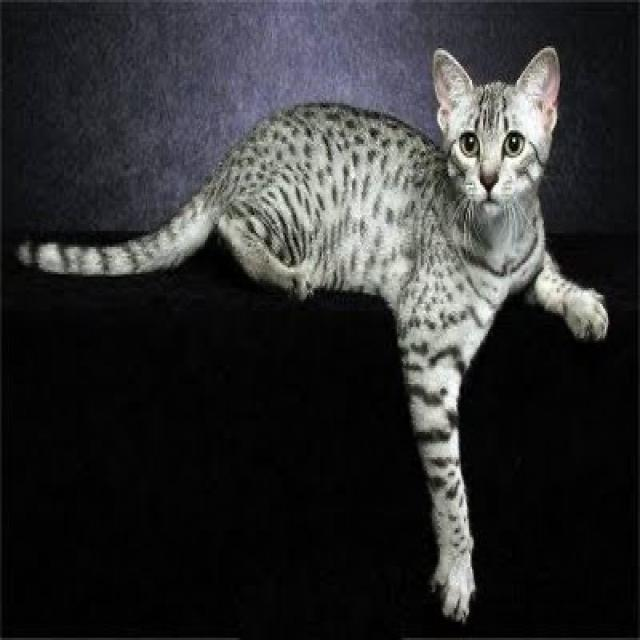cat: (429, 41, 557, 210)
